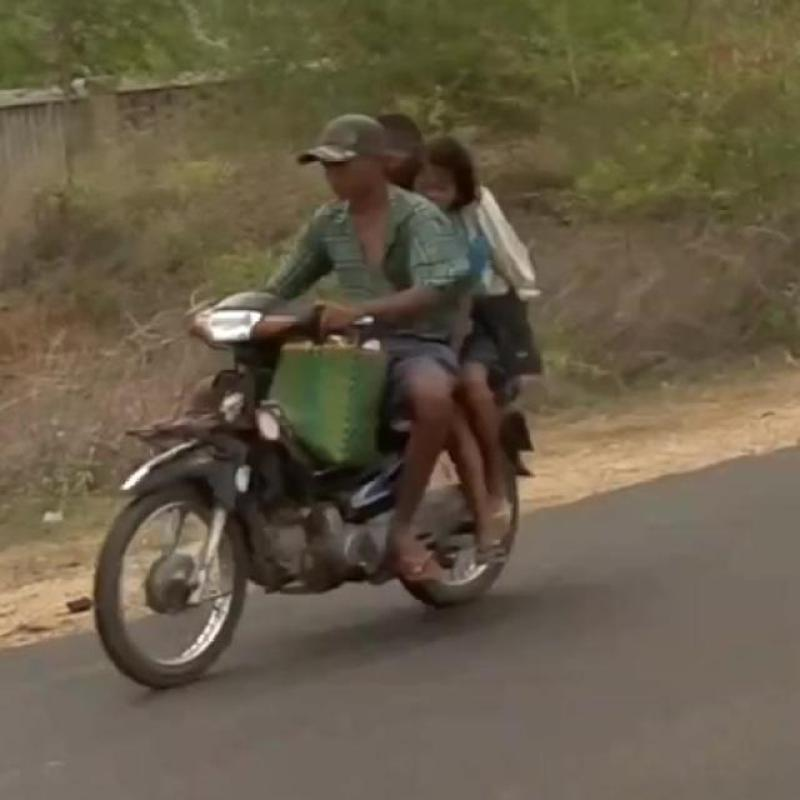nohelmet: (283, 97, 389, 216)
